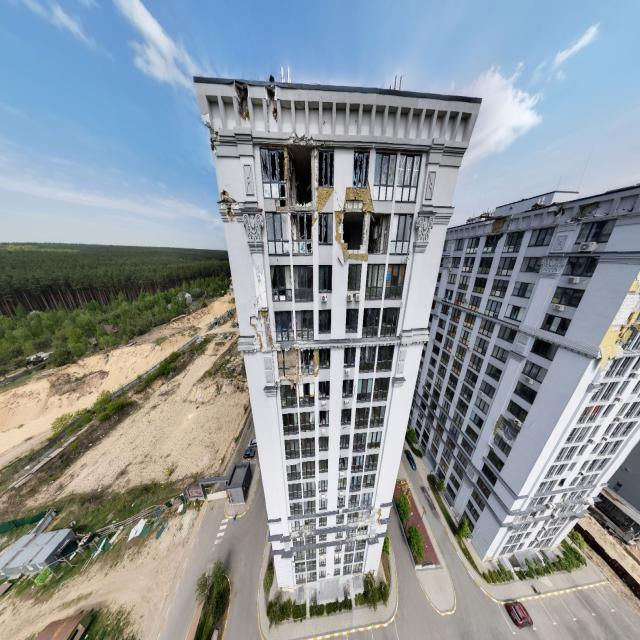building: (192, 73, 483, 608), (407, 184, 639, 573)
